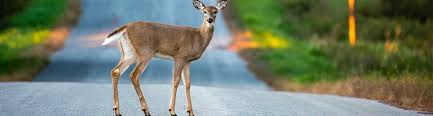deer: (103, 0, 231, 116)
